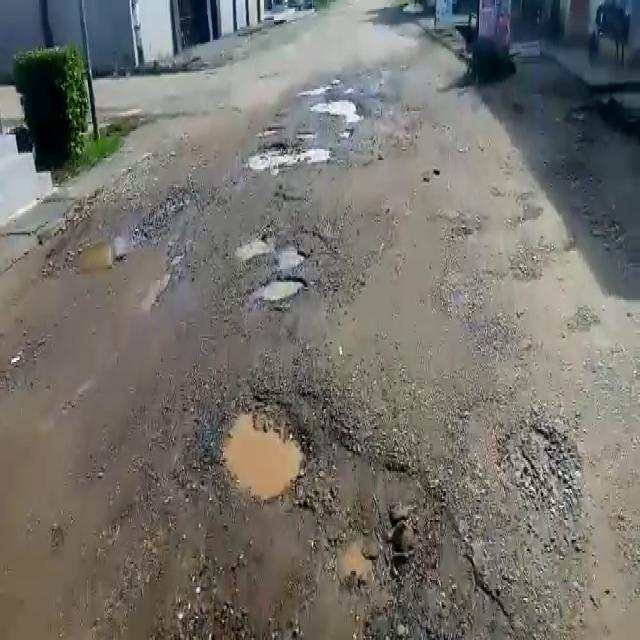Pothole: (219, 399, 311, 506), (244, 138, 329, 169), (237, 234, 308, 267), (250, 271, 309, 302), (74, 238, 115, 273), (310, 98, 362, 120)
